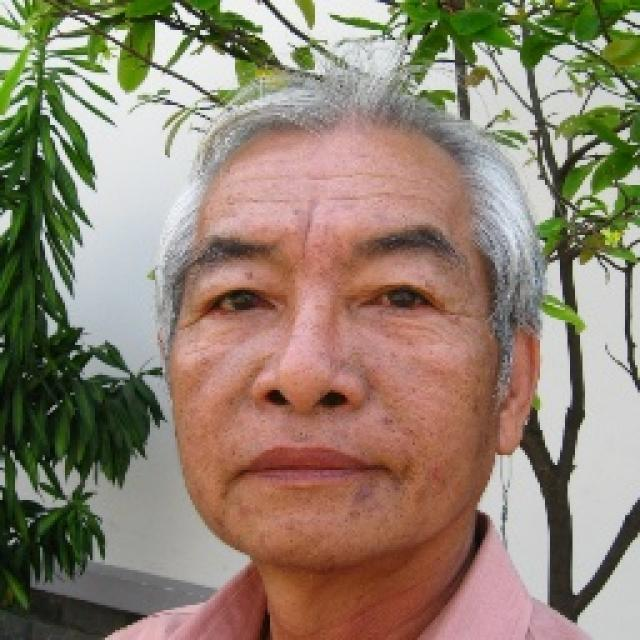earlobe: (493, 316, 542, 456)
